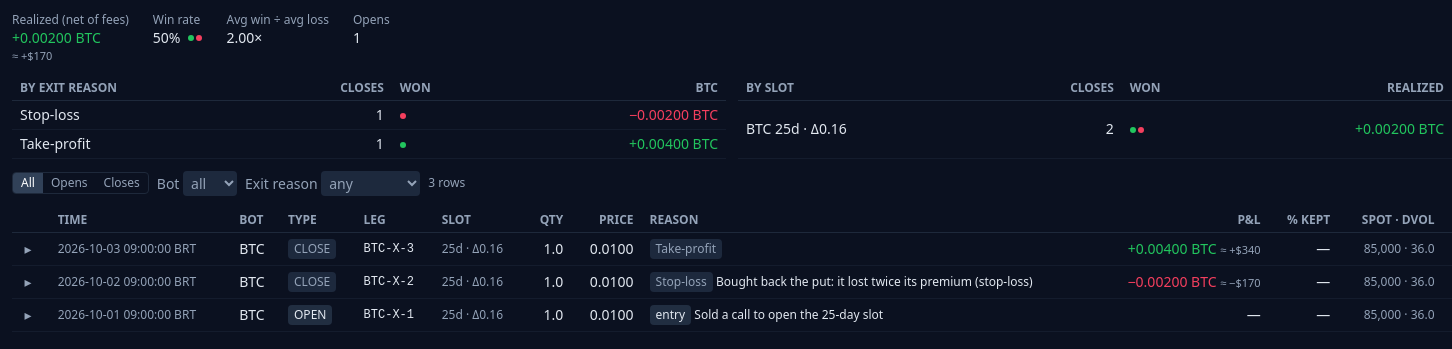
Test: Trade history › Scenario: filters unchanged — exit reason stop-loss lists only stop-loss closes
Select "Stop-loss" in the dropdown labelled "Exit reason" at [371, 183], box [321,171,420,196]
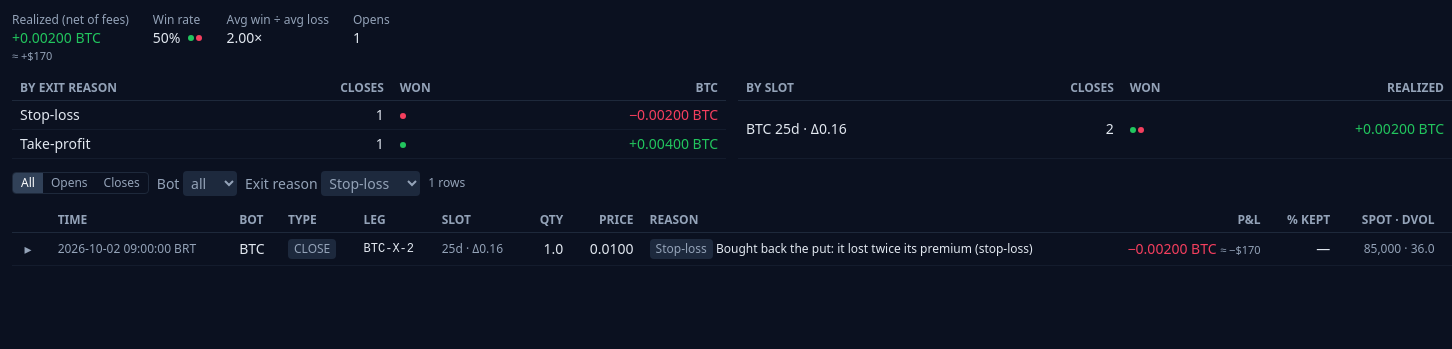
Check: the row with test id "trade-btc-2" is shown, box [12,232,1451,265]
Check: the text "1 rows" is shown, box [428,175,465,191]
Check: the row with test id "trade-btc-3" is gone
